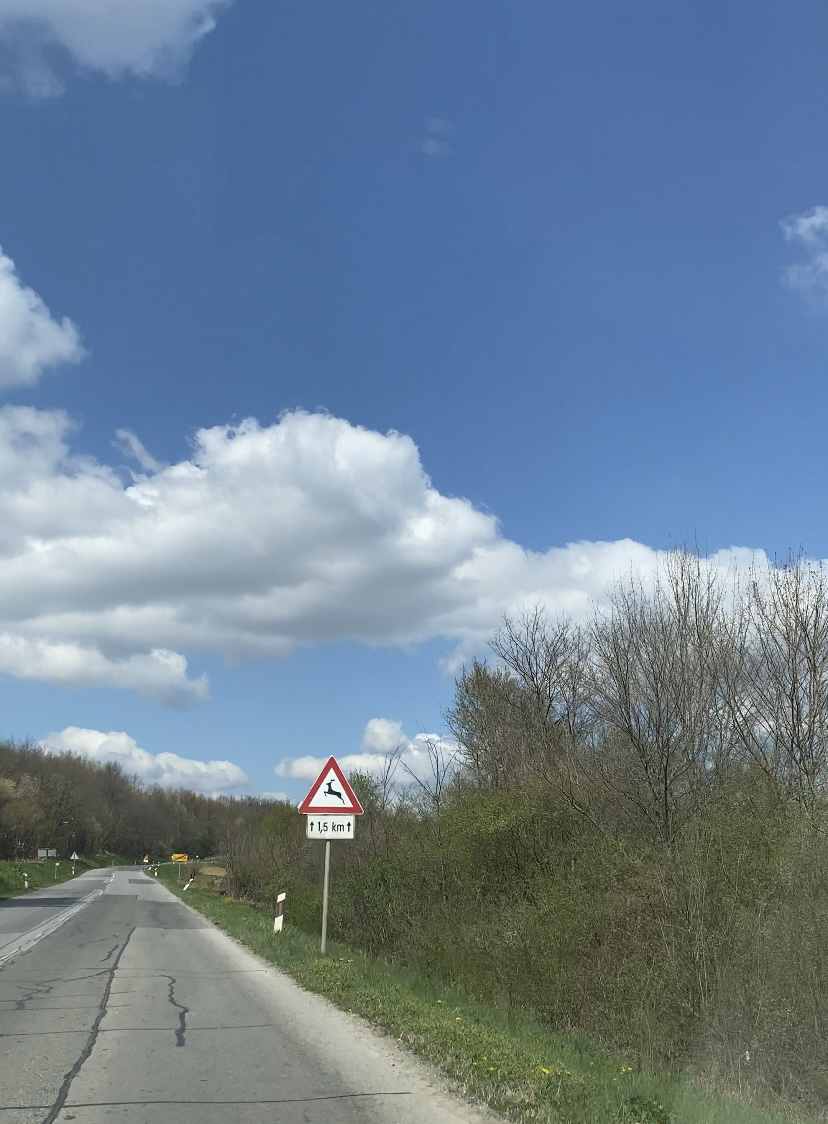Divljač na cesti: (297, 755, 364, 815)
